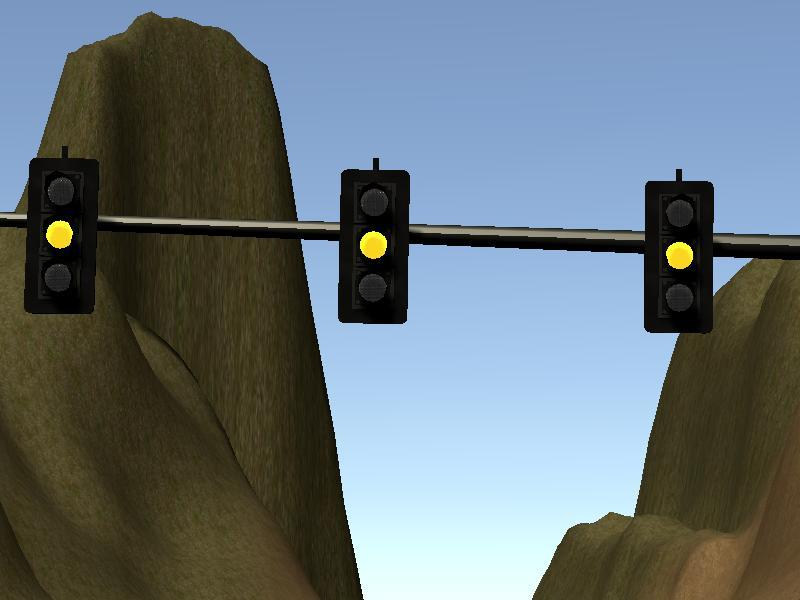Yellow: (21, 156, 101, 315), (642, 179, 715, 334), (339, 168, 409, 324)
